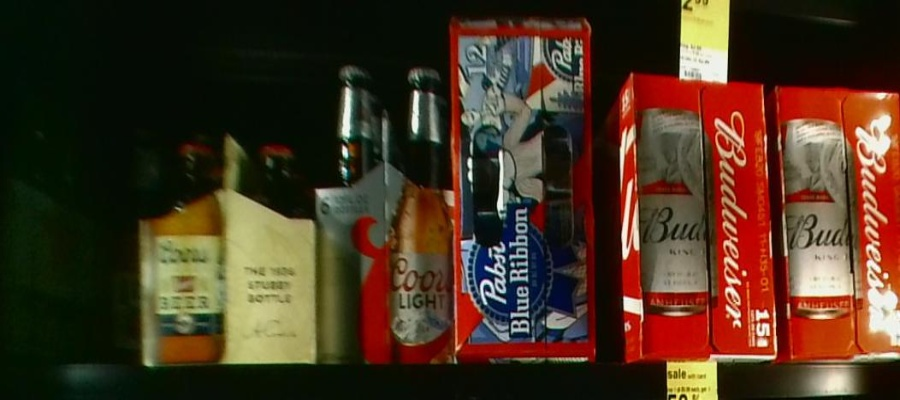bottle: (453, 16, 595, 364), (605, 73, 771, 364), (318, 63, 455, 365), (137, 133, 316, 362), (771, 90, 898, 357)
